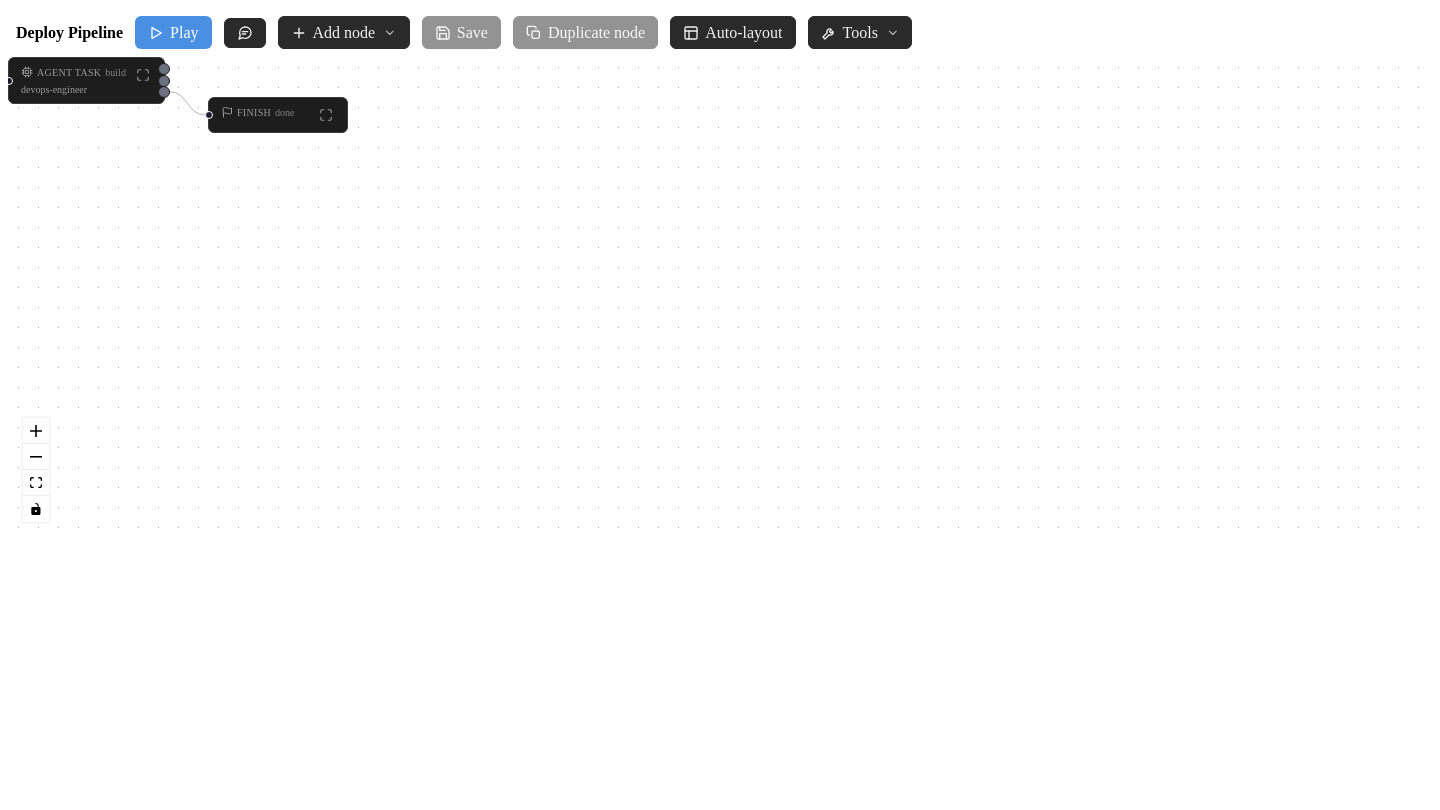
Test: FlowEditor playback › attaches to the concurrent run after a refused start, keeping the error visible
Click the button "Play": (173, 33) [135,16,212,49]
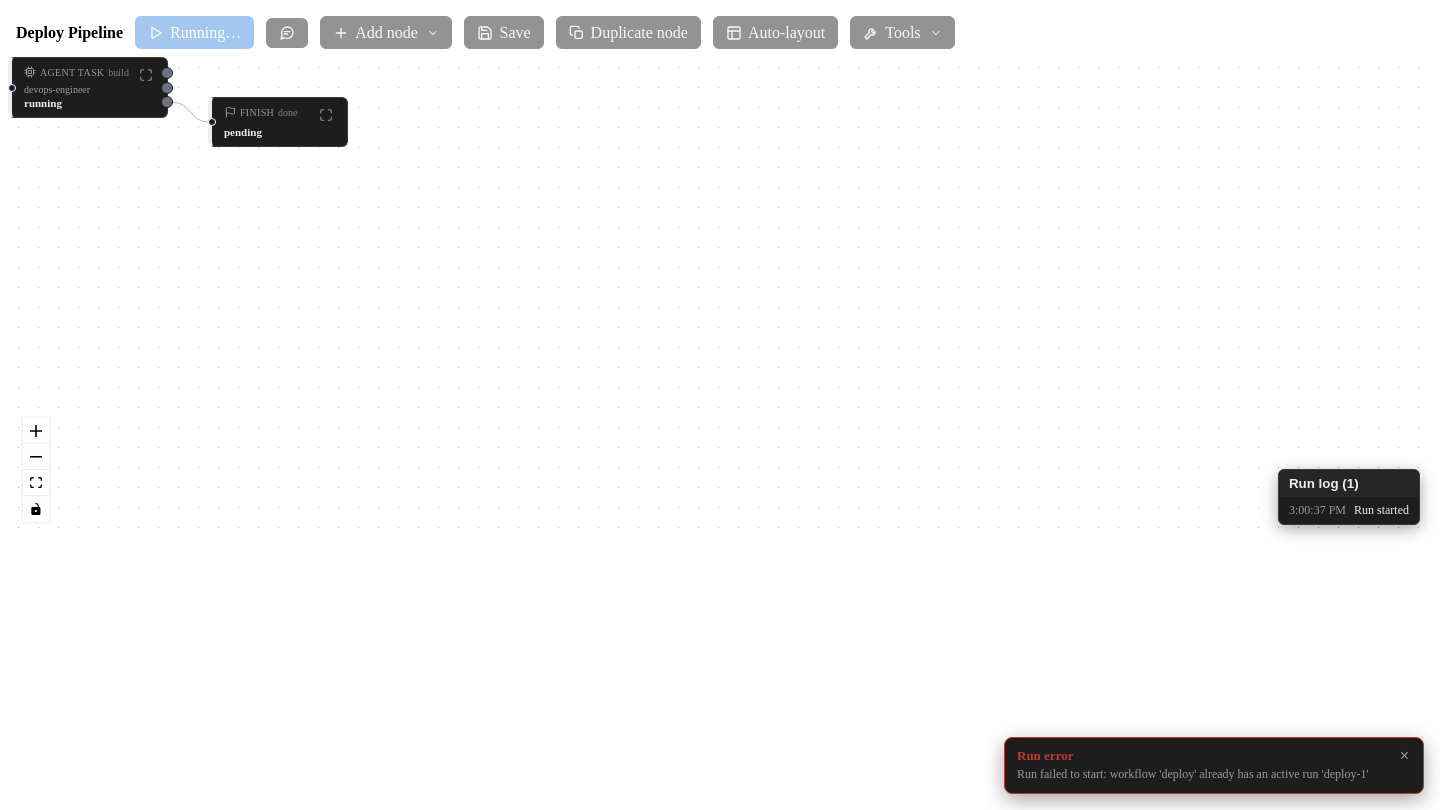
Result: the dialog with test id "playback-error-toast" shows "already has an active run" at [1017,767,1368,781]
Result: the button "Running…" is shown at [135,16,254,49]
Result: the button "Running…" is disabled at [135,16,254,49]
